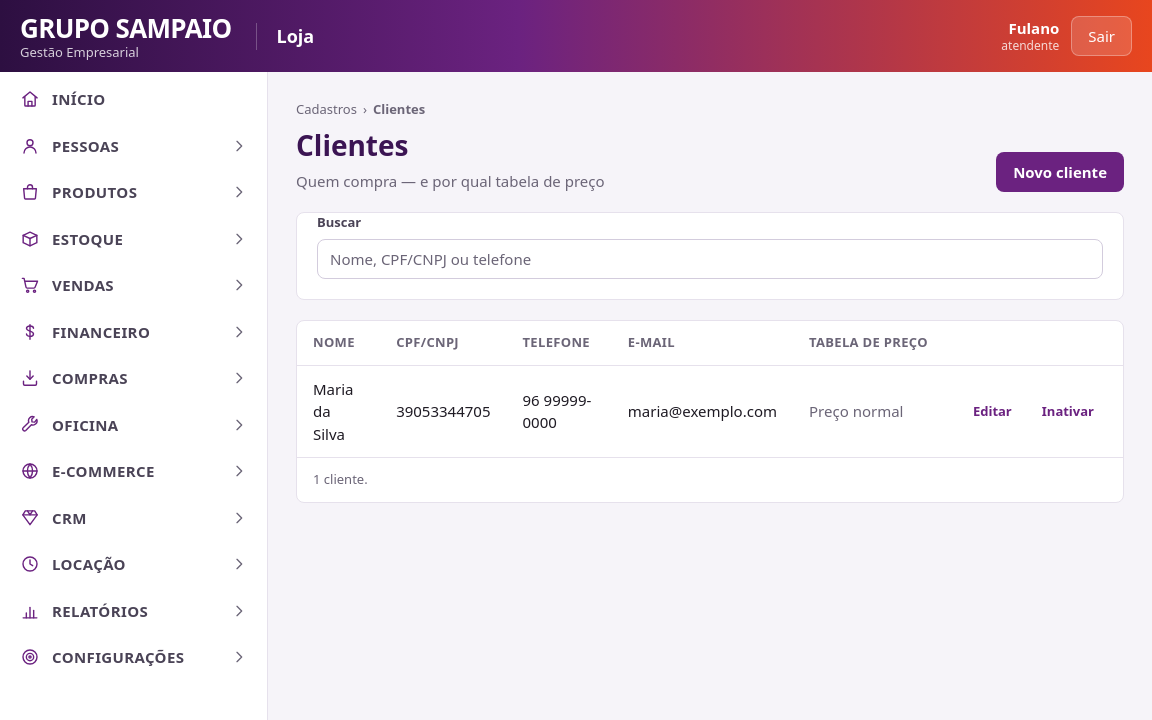
it: quem vê os direitos do titular › o atendente edita a ficha, mas não vê o bloco — o servidor o recusaria
Click the button with aria-label "Editar cadastro de Maria da Silva". click: (992, 411)
box: [960,394,1025,428]
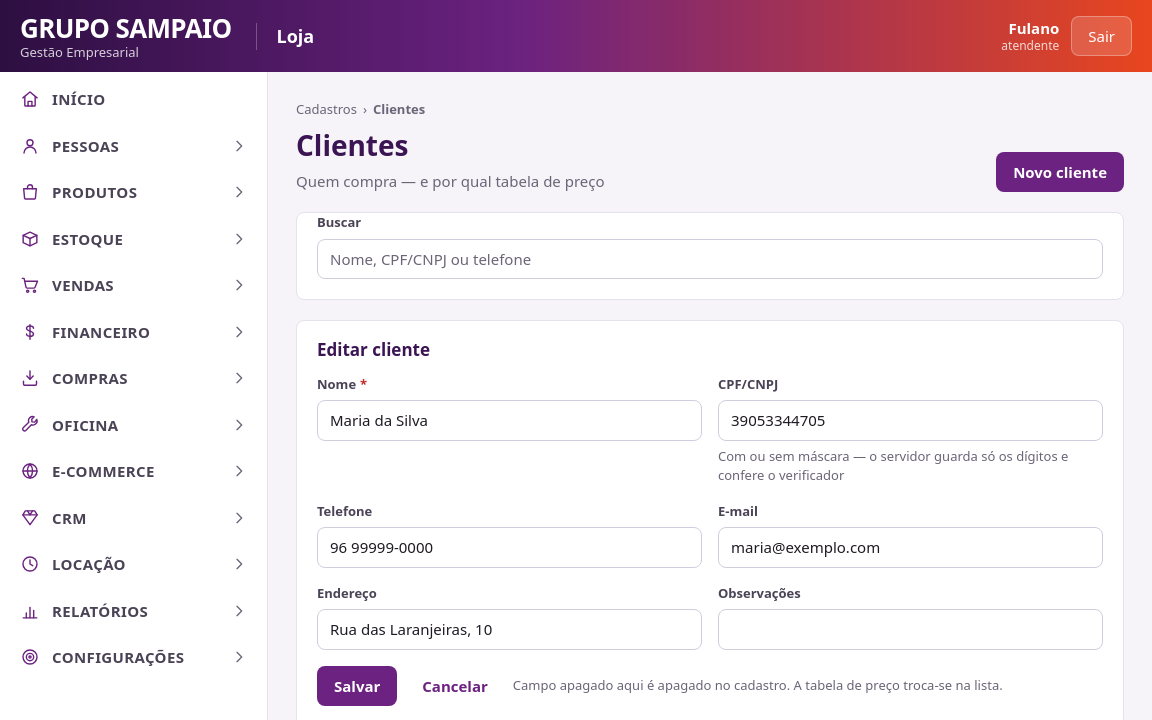
Expected: the field labelled "Telefone" holds "96 99999-0000", [317,527,702,568]
